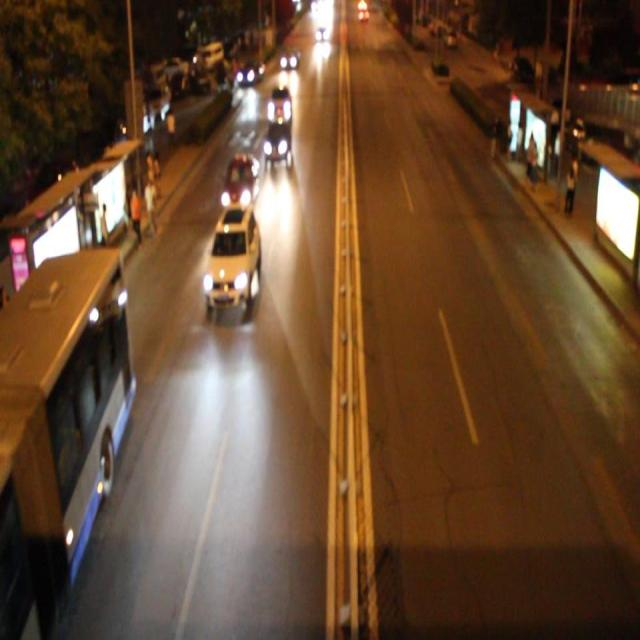car: (203, 205, 260, 308), (219, 151, 257, 210), (264, 119, 290, 162), (268, 85, 290, 124)
van: (1, 257, 124, 640)
